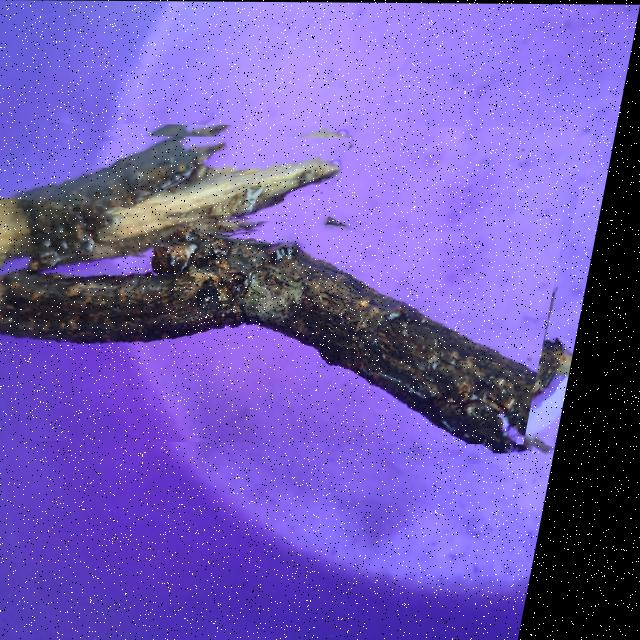wood: (0, 123, 602, 462), (0, 207, 576, 444), (0, 135, 357, 257)
